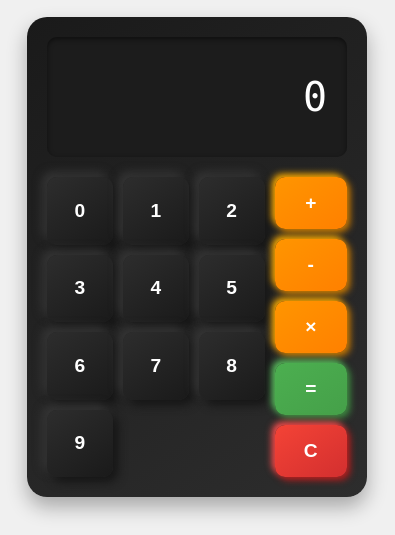
Test case: App › performs addition correctly
The width and height of the screenshot is (395, 535).
Click the button "2": [232, 211] box left=199, top=177, right=264, bottom=244
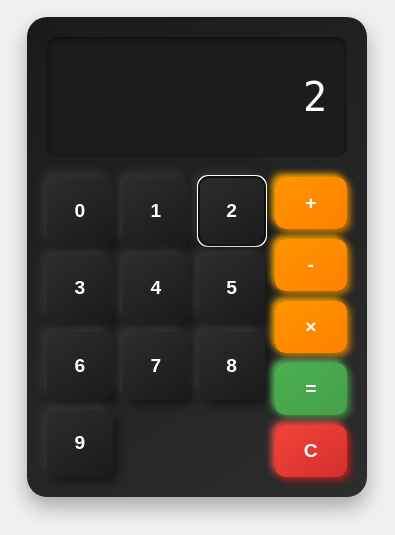
Click the button "+": [311, 203] box left=274, top=177, right=347, bottom=229
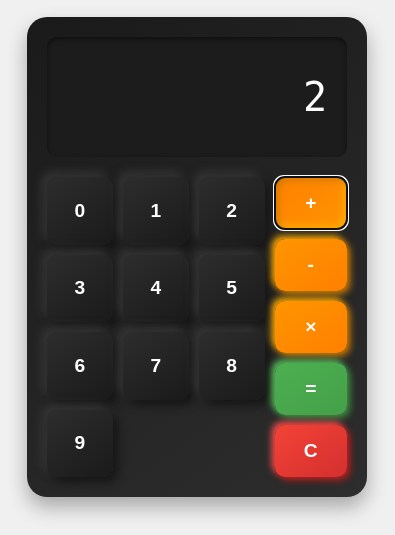
Click the button "3": [80, 288] box left=47, top=254, right=113, bottom=322
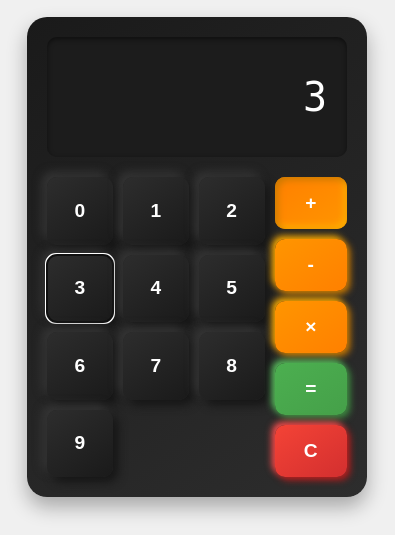
Click the button "=": [311, 389] box left=274, top=363, right=347, bottom=415
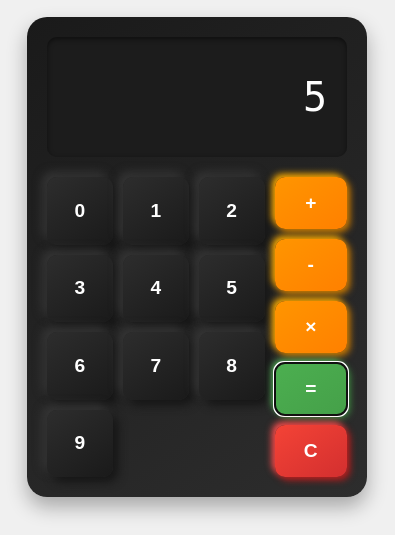
expect the text with test id "display" reads "5": met, box left=303, top=74, right=327, bottom=120
